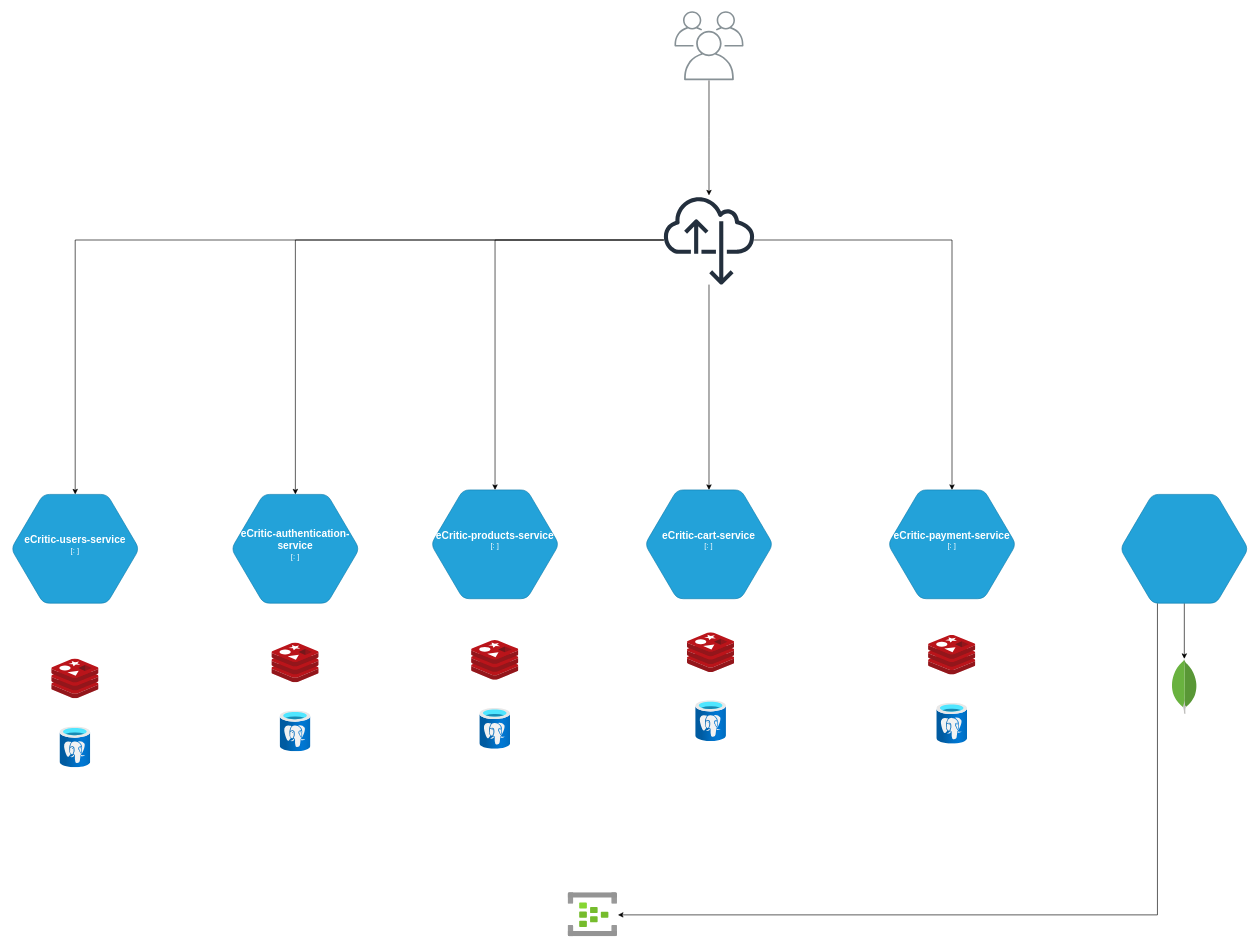
The diagram is 1260 pixels wide and 947 high, and some of its shapes have lost their labels. Each missing label, with the centre of its shape:
eCritic-notifications-service [: ]: the point at 1184,548
users: the point at 708,45
